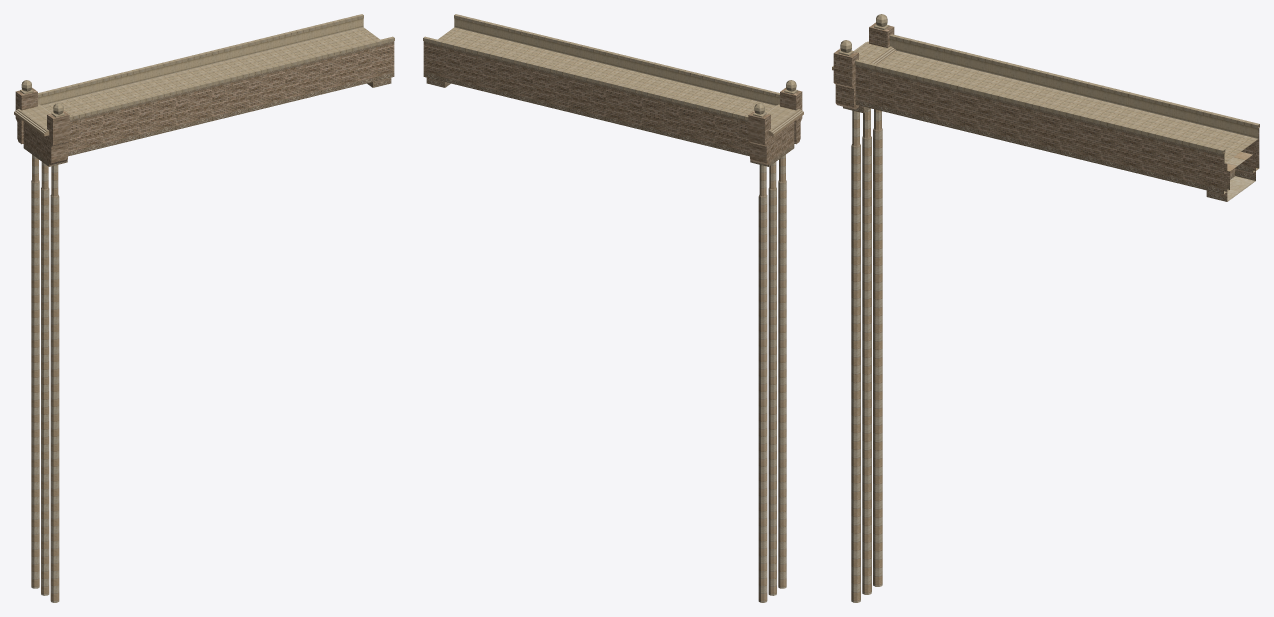
File: thm_nboo_imprv_elevated_walkway_s03_l0.fbx
3 views of the same model, side by side, from view 1: azimuth 30°, elevation 25°; view 2: azimuth 150°, elevation 25°; view 3: azimuth 330°, elevation 25° (orthographic). The views are drawn at different scales.
Parts seen in each view (by area): view 1: mesh_node; view 2: mesh_node; view 3: mesh_node.
Part boxes in pixels (<box>): mesh_node: <box>14,14,394,602</box>; mesh_node: <box>423,14,803,602</box>; mesh_node: <box>832,14,1259,602</box>.
Bounding box in the file's own units: 33.28 × 45.74 × 6.2.
